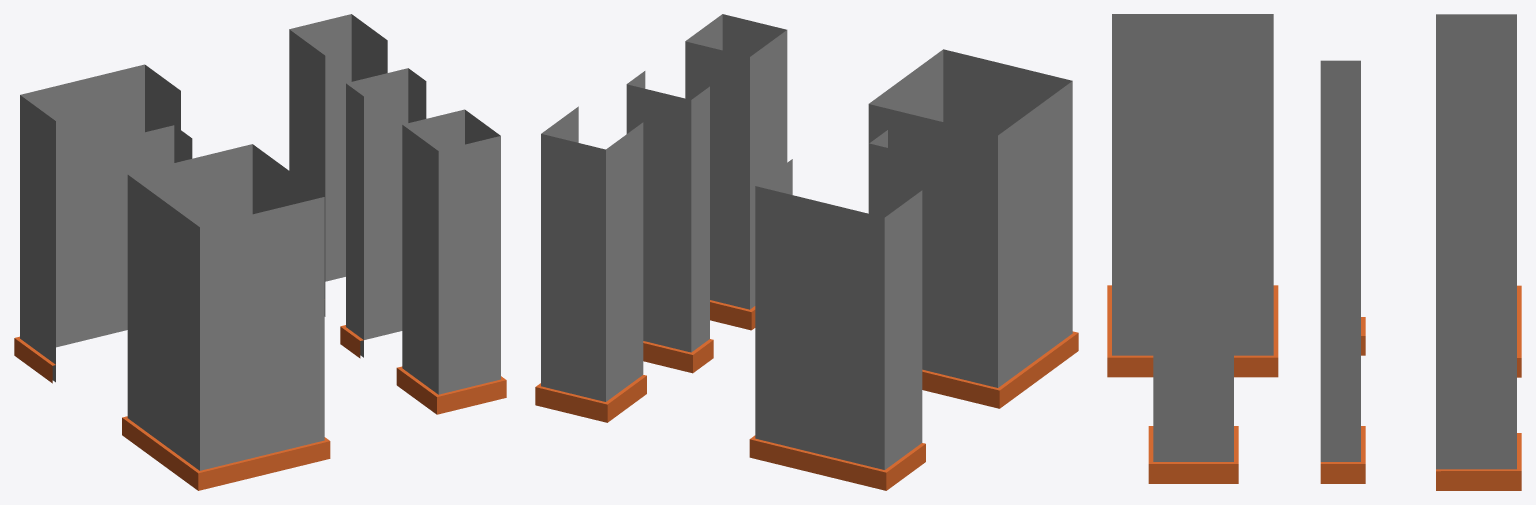
File: Interior_column.FBX
3 renders of one model, left to right at view 1: azimuth 30°, elevation 25°; view 2: azimuth 150°, elevation 25°; view 3: azimuth 270°, elevation 25°, orthographic. The views are drawn at different scales.
Parts seen in each view (by area): view 1: Interior_column1, Interior_halfcolumn_00, Interior_column002, Interior_column003, Interior_halfcolumn_01, Interior_columnSkb_01, Interior_columnSkb_02, Interior_column004, Interior_columnSkb_04; view 2: Interior_column1, Interior_halfcolumn_00, Interior_halfcolumn_01, Interior_column002, Interior_column003, Interior_columnSkb_04, Interior_columnSkb_01, Interior_columnSkb_03, Interior_column004, Interior_columnSkb_005, Interior_columnSkb_02; view 3: Interior_column1, Interior_halfcolumn_01, Interior_column002, Interior_column003, Interior_halfcolumn_00, Interior_column004, Interior_columnSkb_01, Interior_columnSkb_02, Interior_columnSkb_03, Interior_columnSkb_005, Interior_columnSkb_04.
Boxes of the visible parts, bbox=[...] form: Interior_column1: bbox=[127, 144, 324, 470]; Interior_halfcolumn_00: bbox=[20, 64, 180, 382]; Interior_column002: bbox=[402, 109, 500, 394]; Interior_column003: bbox=[346, 68, 426, 357]; Interior_halfcolumn_01: bbox=[289, 14, 387, 316]; Interior_columnSkb_01: bbox=[122, 416, 330, 490]; Interior_columnSkb_02: bbox=[396, 366, 506, 414]; Interior_column004: bbox=[143, 125, 192, 170]; Interior_columnSkb_04: bbox=[14, 336, 55, 383]; Interior_column1: bbox=[868, 49, 1072, 387]; Interior_halfcolumn_00: bbox=[755, 159, 922, 469]; Interior_halfcolumn_01: bbox=[541, 106, 643, 401]; Interior_column002: bbox=[685, 14, 787, 309]; Interior_column003: bbox=[626, 71, 709, 352]; Interior_columnSkb_04: bbox=[749, 435, 925, 490]; Interior_columnSkb_01: bbox=[922, 331, 1078, 408]; Interior_columnSkb_03: bbox=[535, 375, 646, 422]; Interior_column004: bbox=[869, 130, 901, 217]; Interior_columnSkb_005: bbox=[643, 339, 713, 373]; Interior_columnSkb_02: bbox=[710, 300, 755, 330]; Interior_column1: bbox=[1112, 14, 1273, 355]; Interior_halfcolumn_01: bbox=[1436, 161, 1516, 469]; Interior_column002: bbox=[1153, 154, 1233, 461]; Interior_column003: bbox=[1320, 154, 1360, 461]; Interior_halfcolumn_00: bbox=[1436, 14, 1516, 161]; Interior_column004: bbox=[1320, 60, 1360, 154]; Interior_columnSkb_01: bbox=[1107, 285, 1278, 377]; Interior_columnSkb_02: bbox=[1148, 426, 1238, 483]; Interior_columnSkb_03: bbox=[1436, 433, 1521, 490]; Interior_columnSkb_005: bbox=[1320, 426, 1365, 483]; Interior_columnSkb_04: bbox=[1517, 285, 1521, 377].
Size of the model in its own units: 107 by 101 by 78.74.
